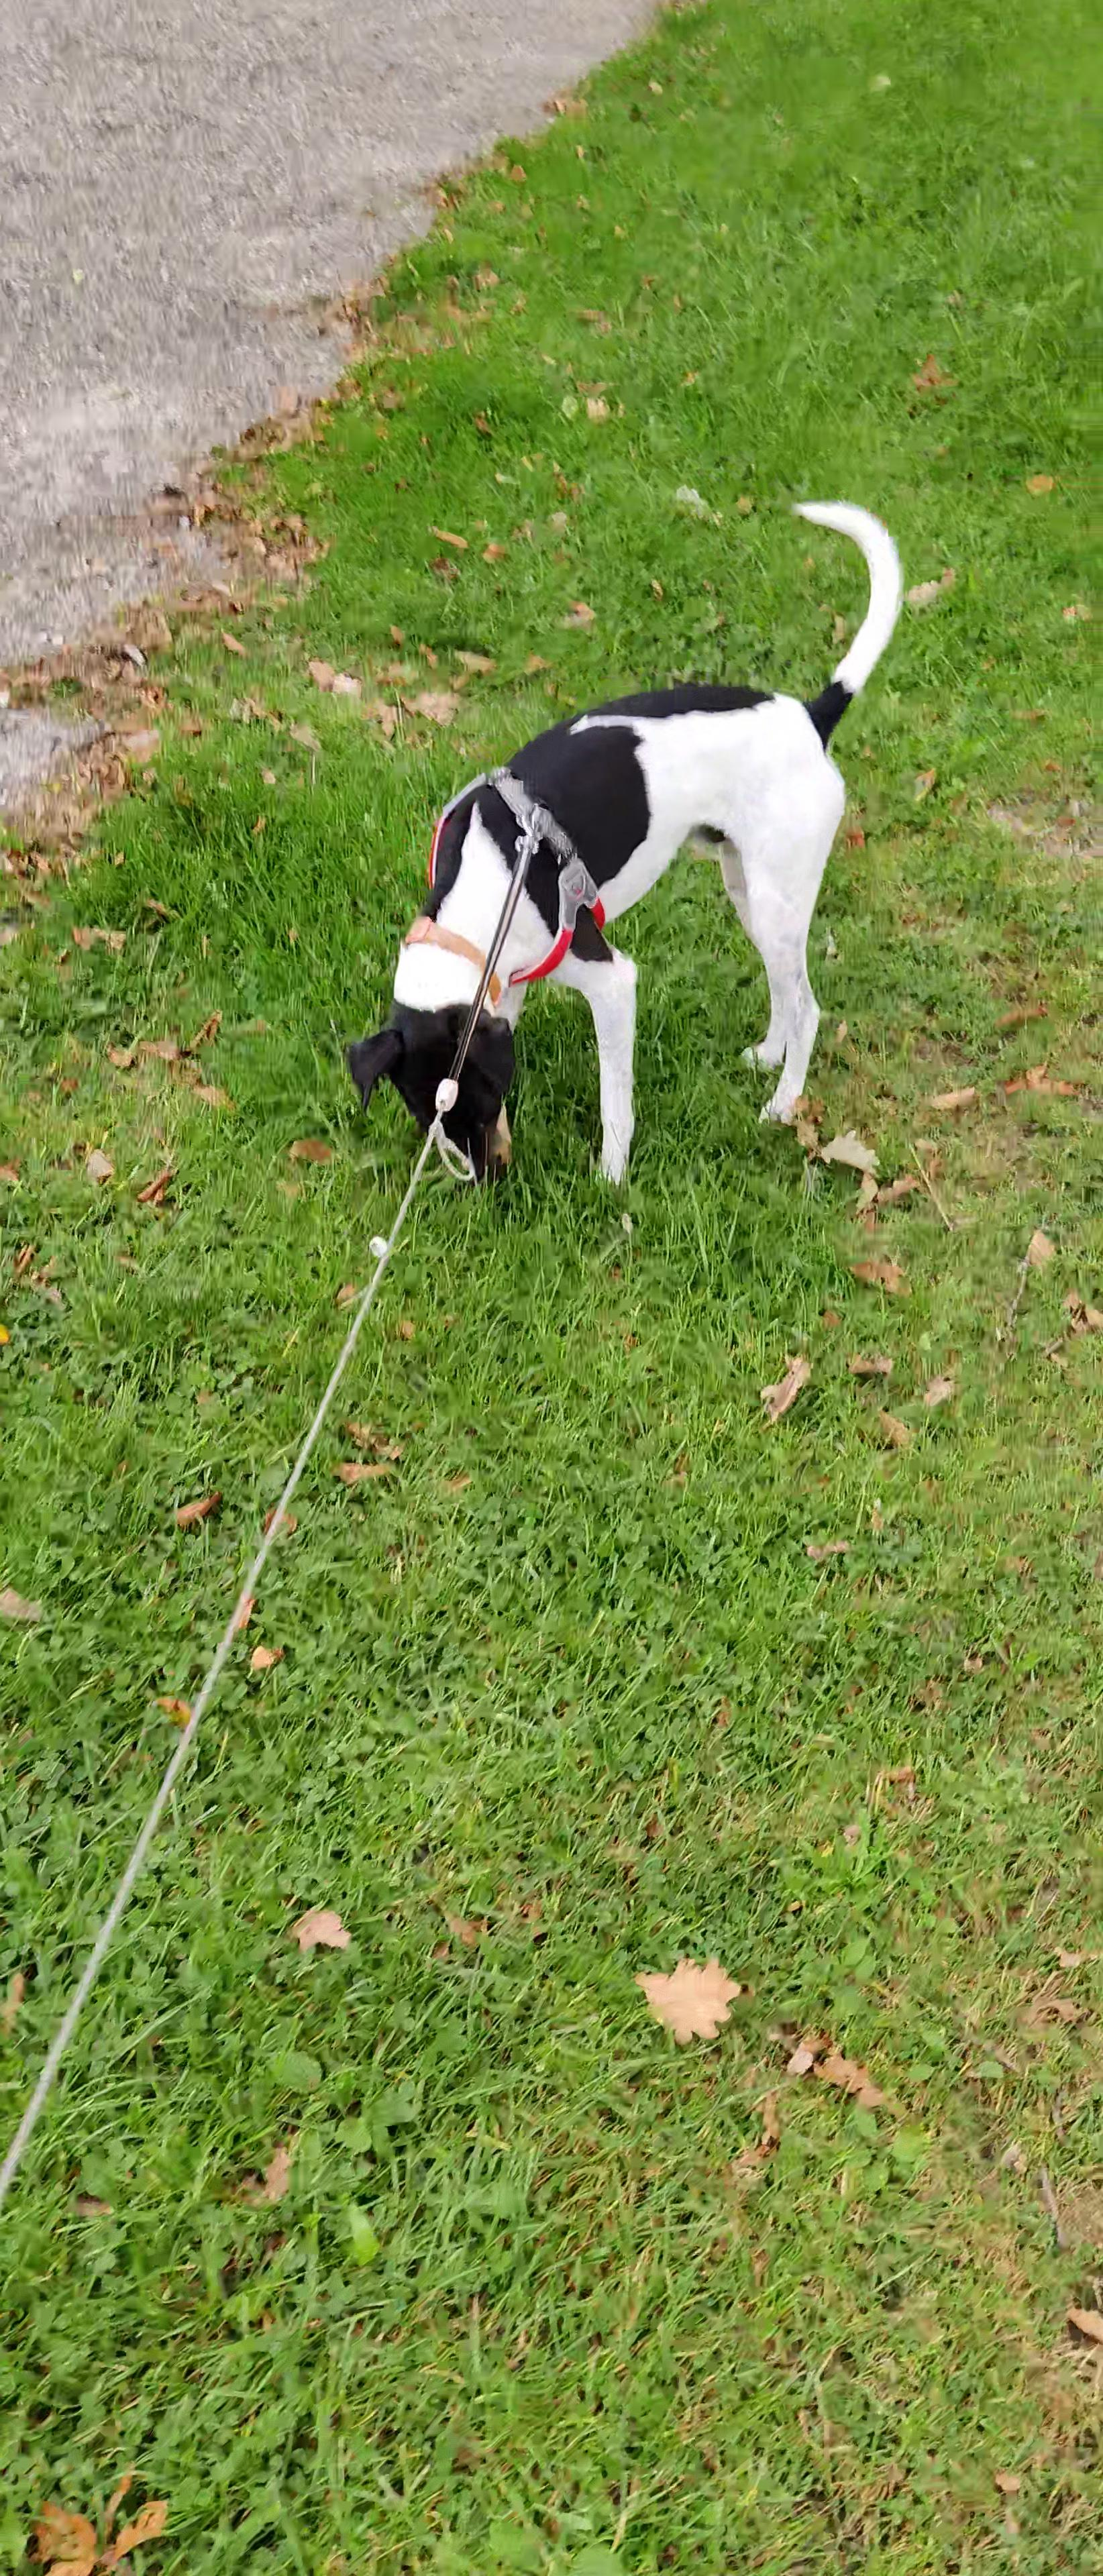Dog: (340, 493, 902, 1184)
